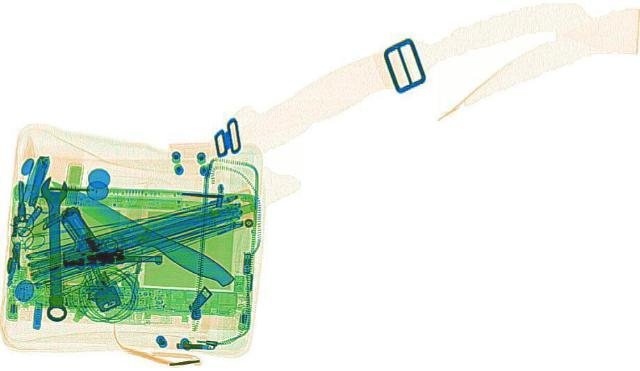Gun: (58, 204, 162, 265)
Knife: (36, 176, 242, 289)
Wrench: (38, 175, 66, 320)
